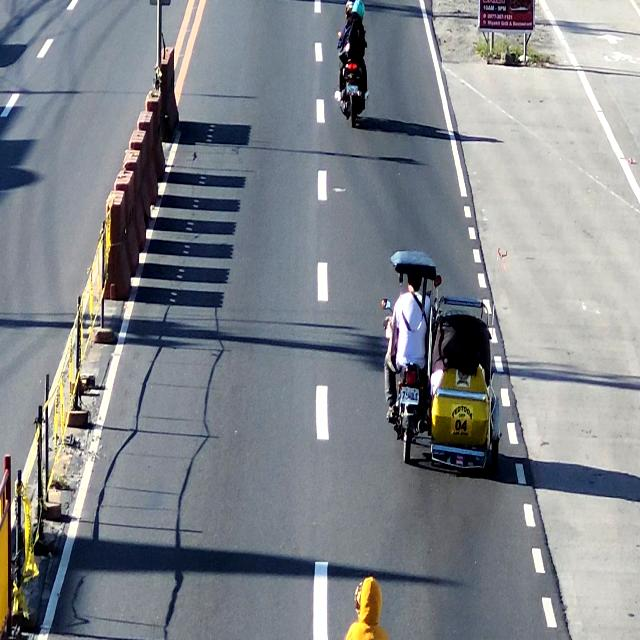Car: (386, 257, 503, 481)
License-Plate: (398, 384, 422, 410), (345, 85, 359, 96)
Motorcycle: (336, 0, 372, 122), (339, 573, 396, 640)
